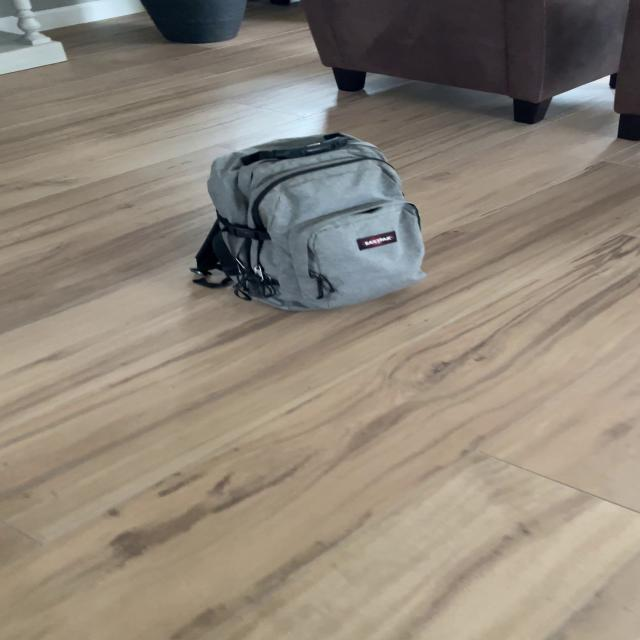backpack: (182, 126, 438, 320)
